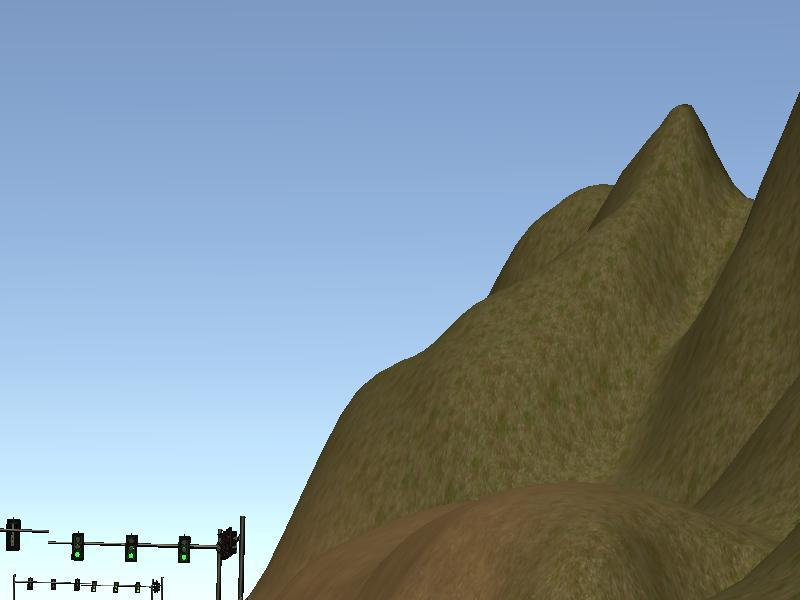Green: (71, 531, 84, 561), (178, 534, 191, 564), (124, 533, 137, 563)
